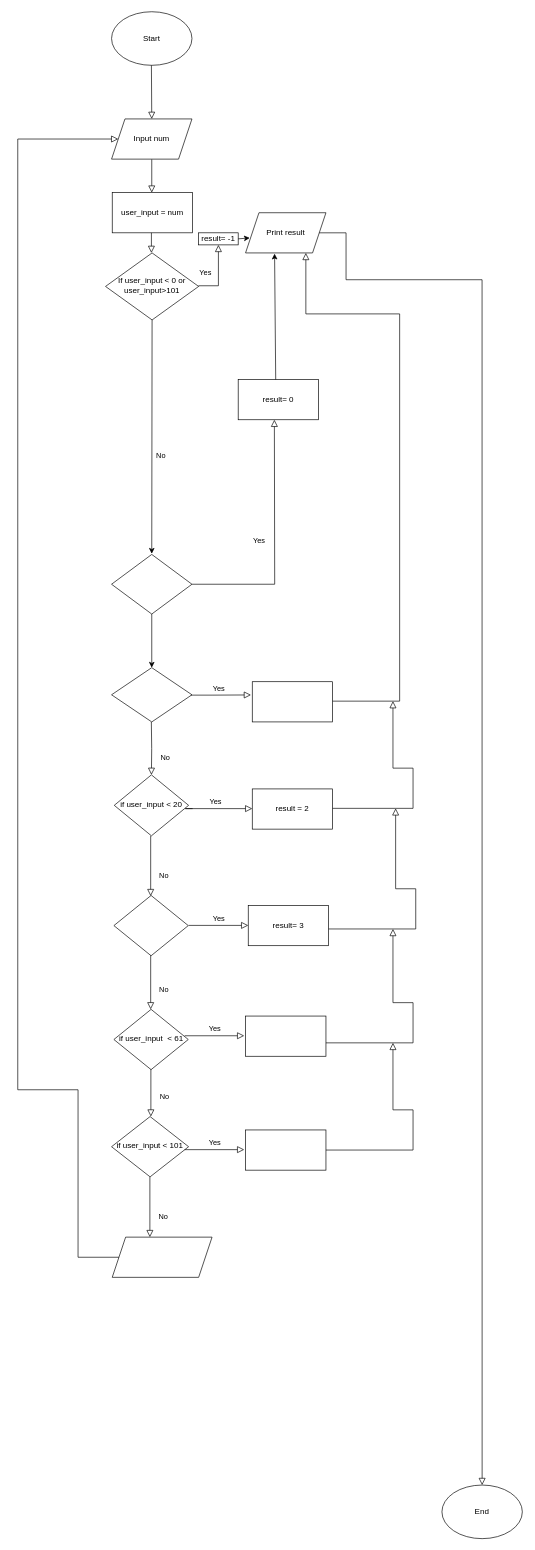
Image size: 535x1550. Some labels were removed from this diagram. Here are the shapes that lost their labels. From the top down, the centre of each, then its label:
pixel 151 584: if user_input < 6
pixel 151 694: if user_input < 13
pixel 292 701: result = 1
pixel 150 925: if user_ input < 51
pixel 285 1035: result = 4
pixel 285 1149: result = 5
pixel 162 1256: Print "invalid Input"
